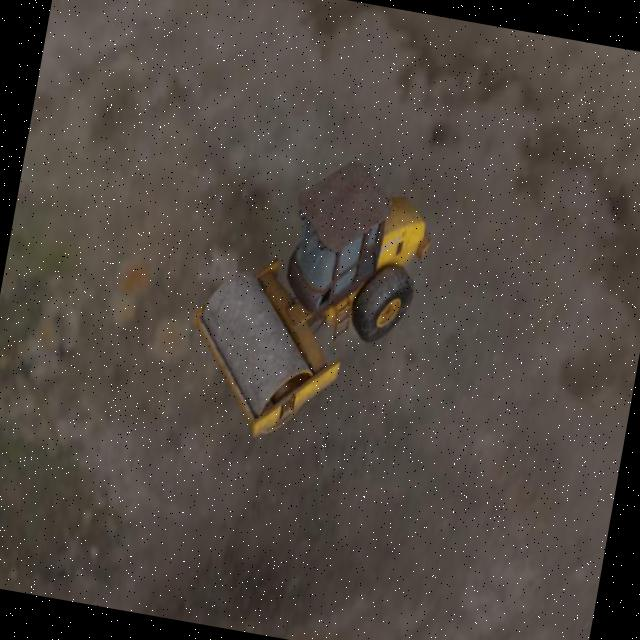Roller: (173, 134, 442, 462)
